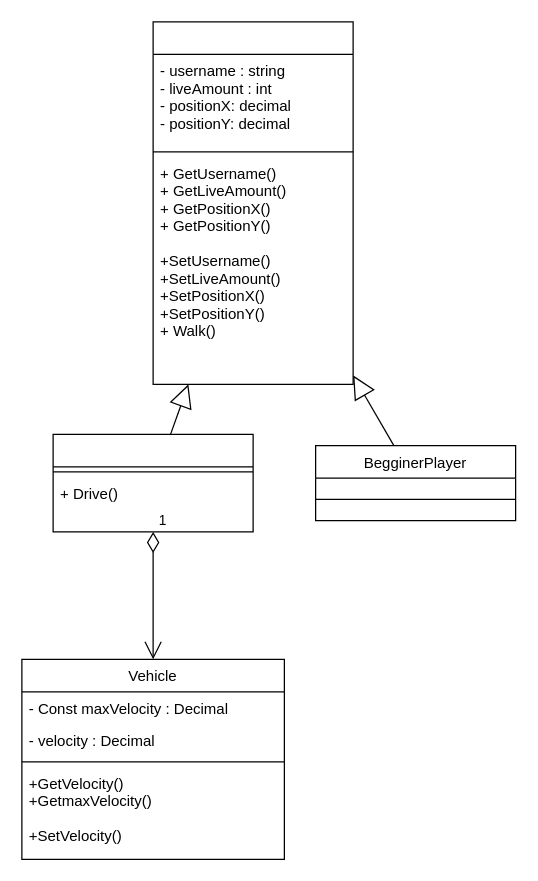
Image size: 538x881. Some labels were removed from this diagram. Here are the shapes that lost their labels. From the top down, the box of each, then its label:
(152, 21, 353, 384): Player
(52, 433, 253, 532): AdvancedPlayer
